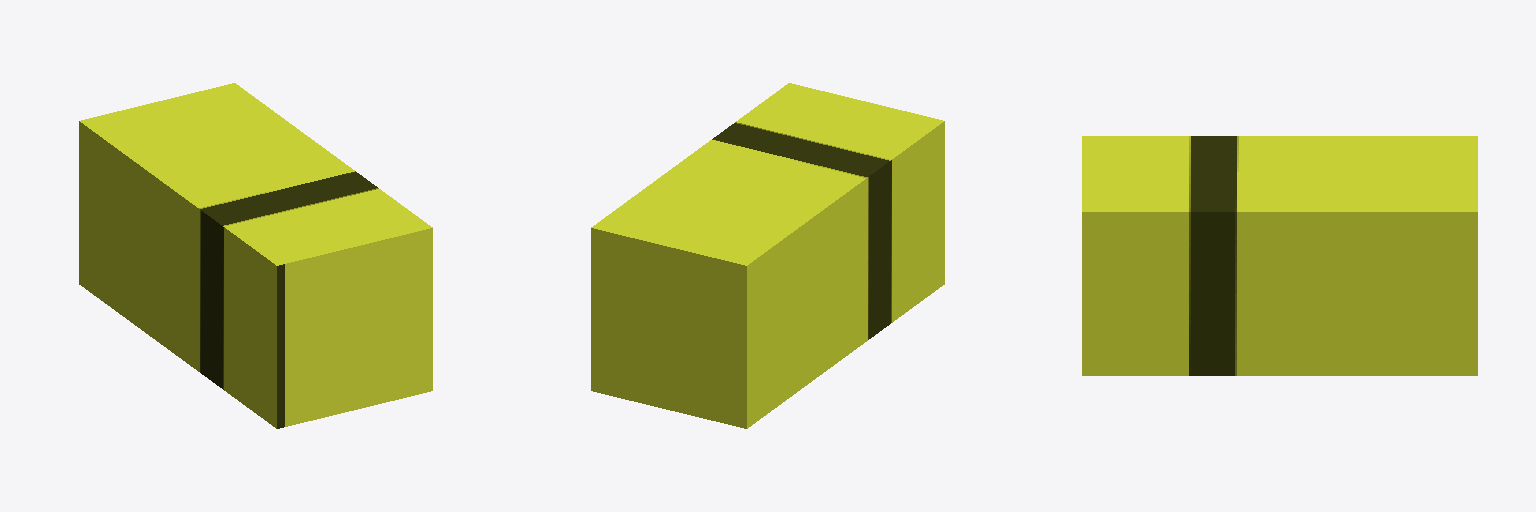
The picture shows the model from 3 angles: view 1: azimuth 30°, elevation 25°; view 2: azimuth 150°, elevation 25°; view 3: azimuth 270°, elevation 25°; orthographic projection.
Parts seen in each view (by area): view 1: Cube; view 2: Cube; view 3: Cube.
Boxes of the visible parts, x1=… form: Cube: x1=79, y1=83, x2=432, y2=428; Cube: x1=591, y1=83, x2=944, y2=428; Cube: x1=1082, y1=136, x2=1477, y2=375.
Bounding box in the file's own units: 0.5 × 0.5 × 1.1.
Materials: 1 (1 with a texture image).